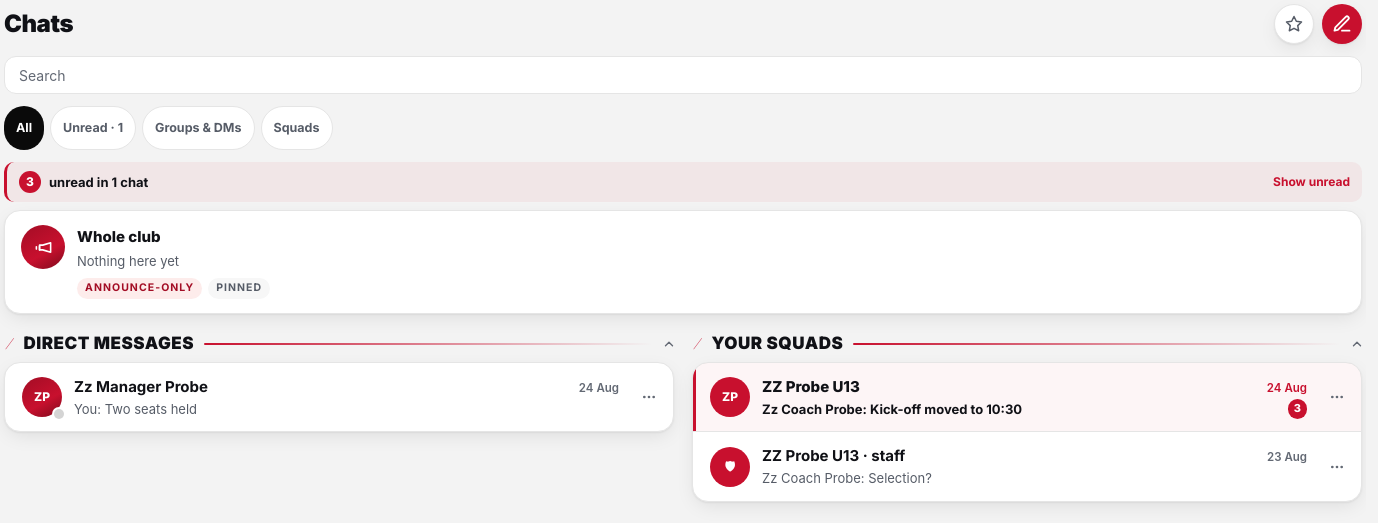
it: unread rows are hard to miss (4 Sep 2026) › the unread strip is a button that opens the Unread filter, and is gone once there
Step 1. Click the button with test id "unread-strip" → (80, 182), box [4,162,1362,202]
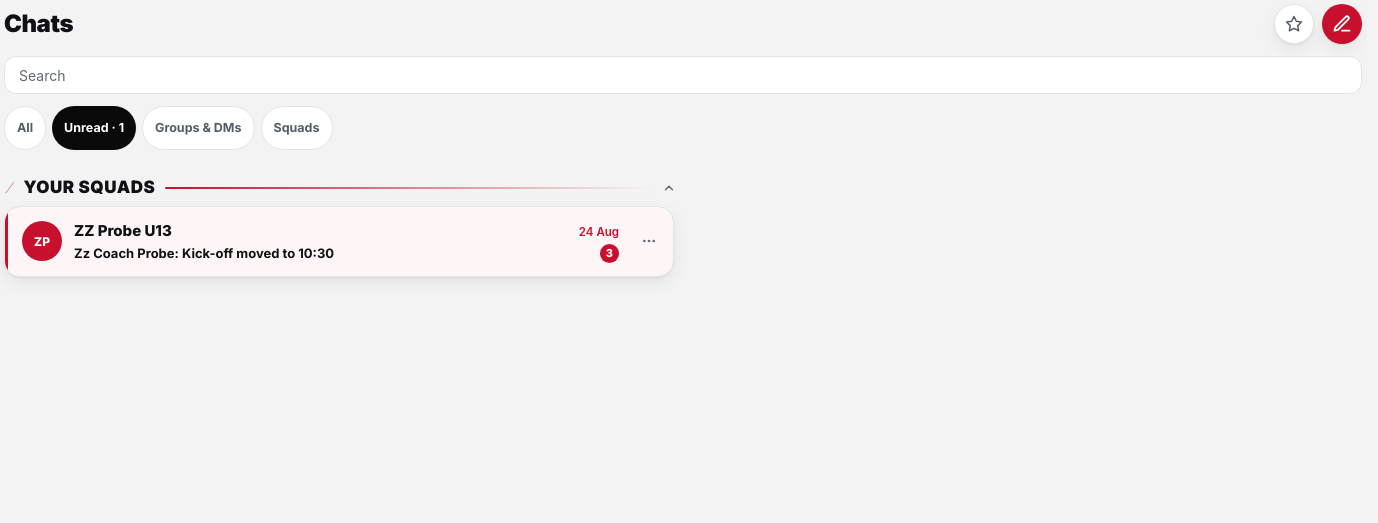
Check: the button with test id "unread-strip" is gone
Check: the number of links with test id "chat-row" is 1, box [8,207,633,276]
